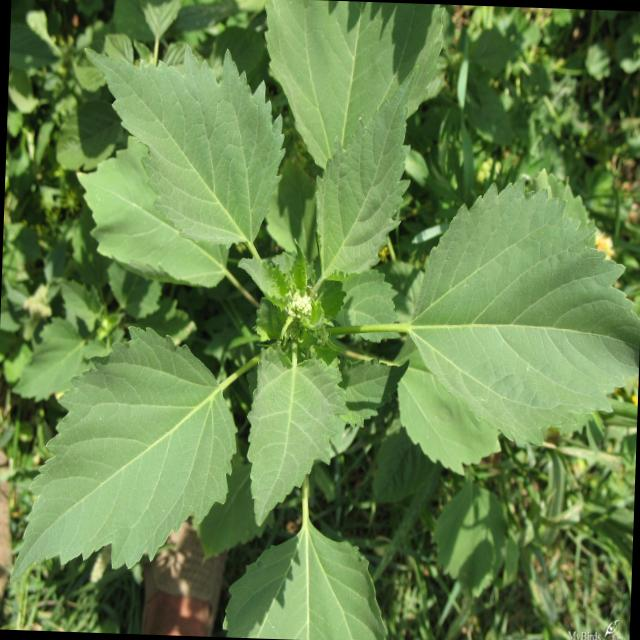ambrosia: (370, 148, 640, 463), (18, 338, 262, 569), (92, 58, 280, 292)
